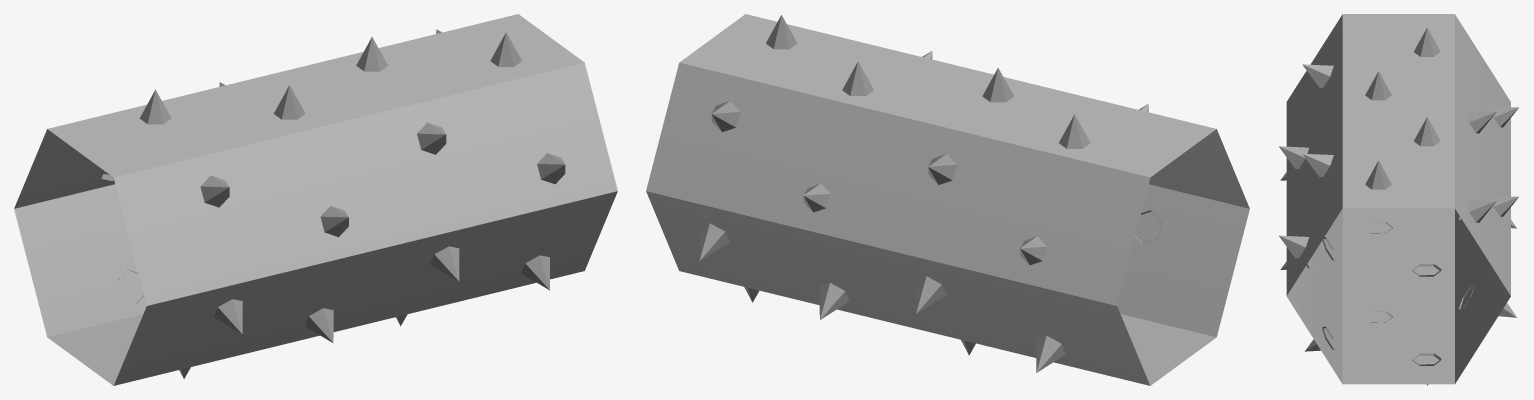
Rendered from crushing shaft.fbx.
3 renders of one model, left to right at view 1: azimuth 30°, elevation 25°; view 2: azimuth 150°, elevation 25°; view 3: azimuth 270°, elevation 25°, orthographic. The views are drawn at different scales.
Visible parts, largest first — view 1: crushing_shaft; view 2: crushing_shaft; view 3: crushing_shaft.
Part boxes in pixels (x1,y1,x2,y2): crushing_shaft: [14, 14, 617, 385]; crushing_shaft: [646, 14, 1249, 385]; crushing_shaft: [1279, 14, 1518, 385].
Bounding box in the file's own units: 248 × 136 × 130.
1 material, 1 textured.
